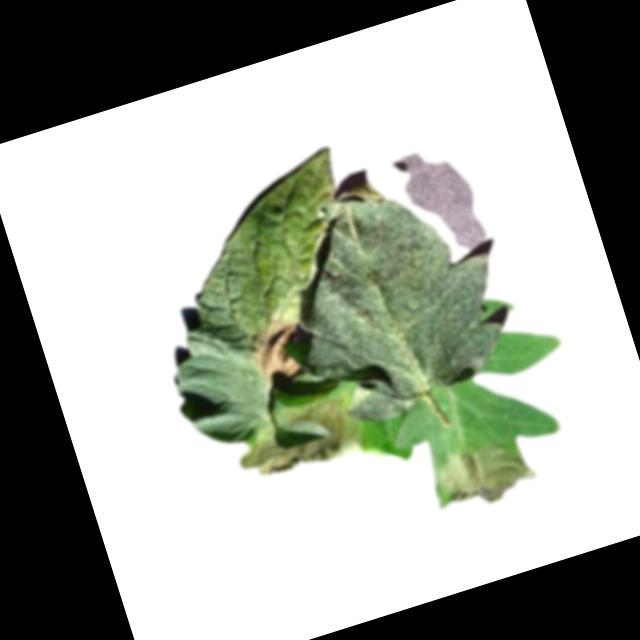Late_blight: (232, 392, 368, 484), (428, 426, 540, 516), (240, 313, 310, 386)
healthy: (262, 160, 526, 438)
